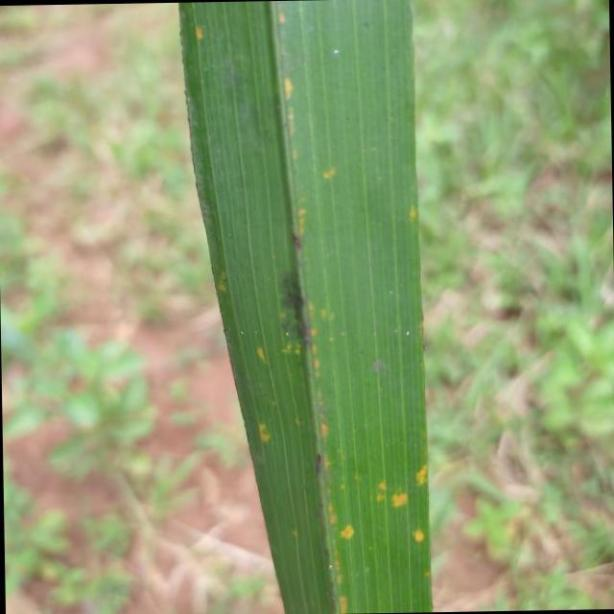Kalium: (179, 0, 435, 614)
